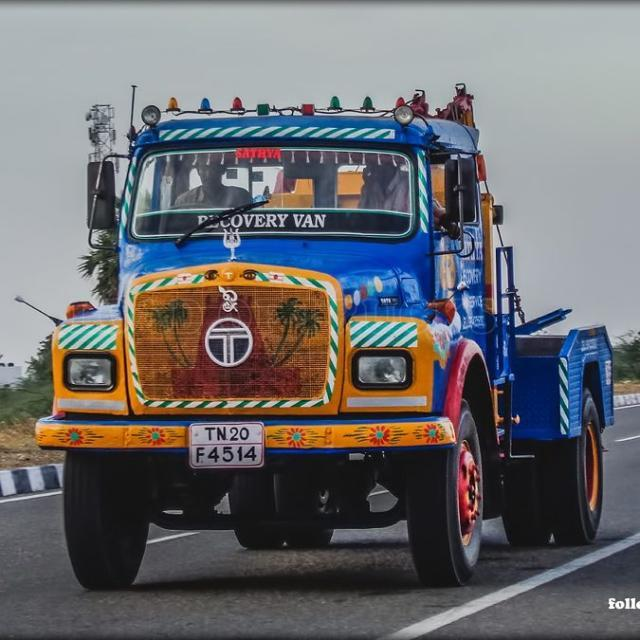Truck: (15, 86, 618, 589)
